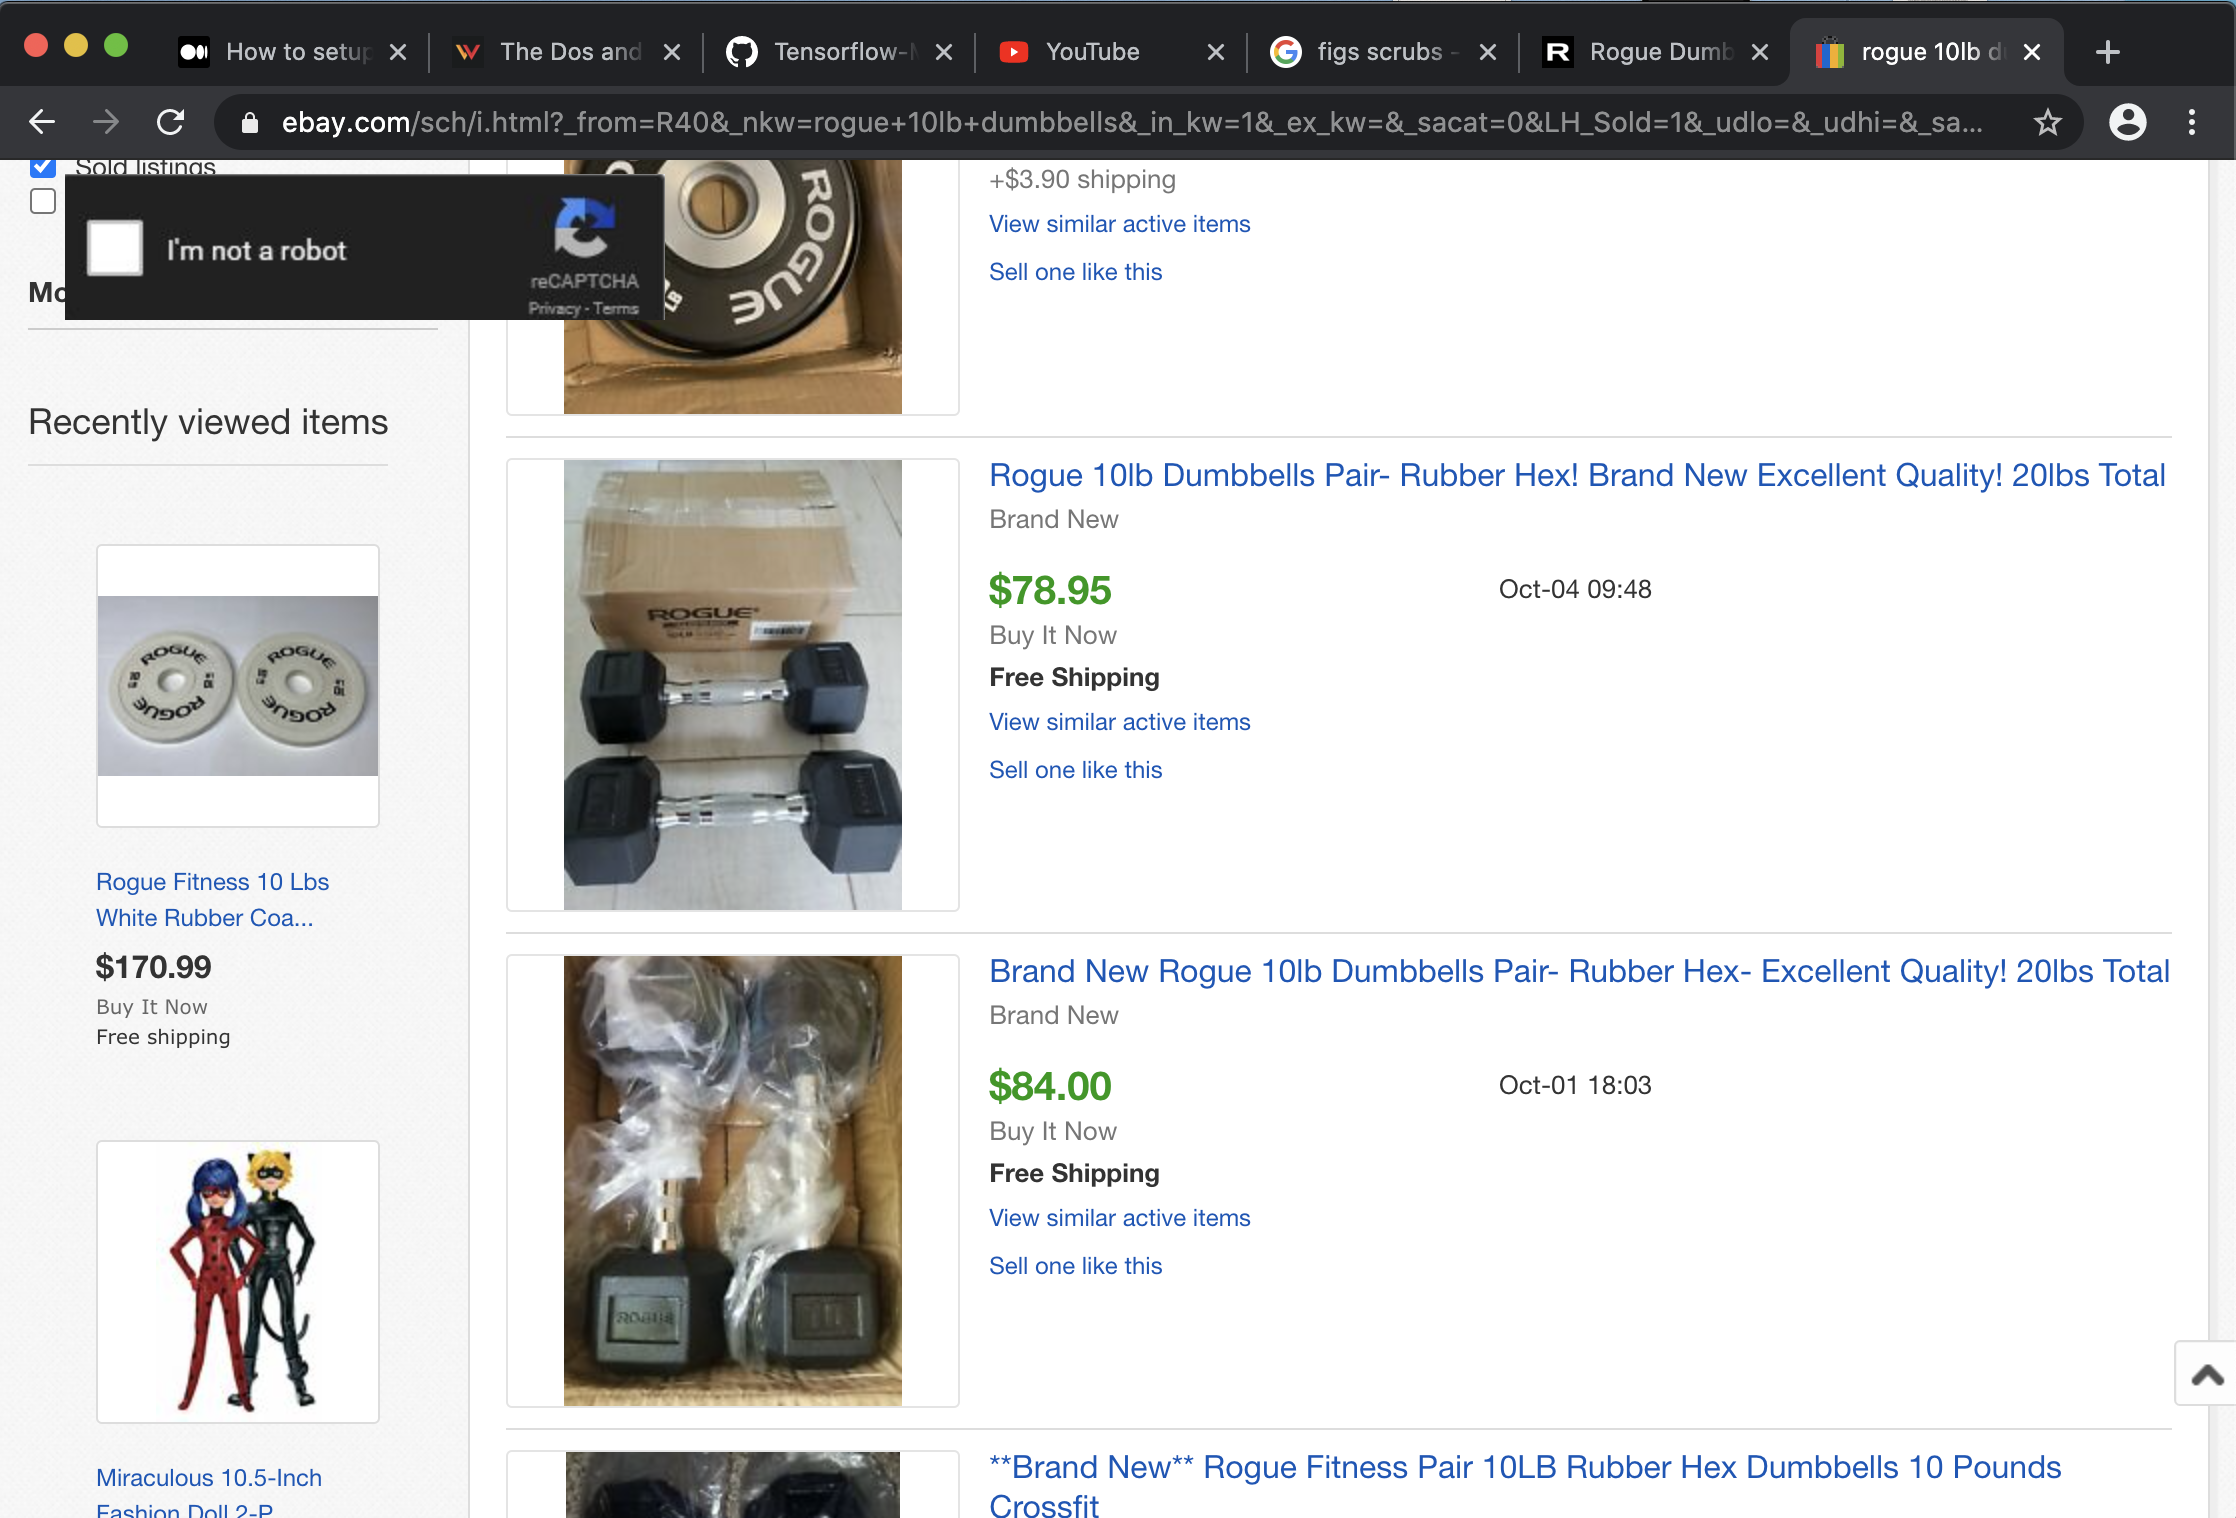captcha: (51, 164, 698, 342)
